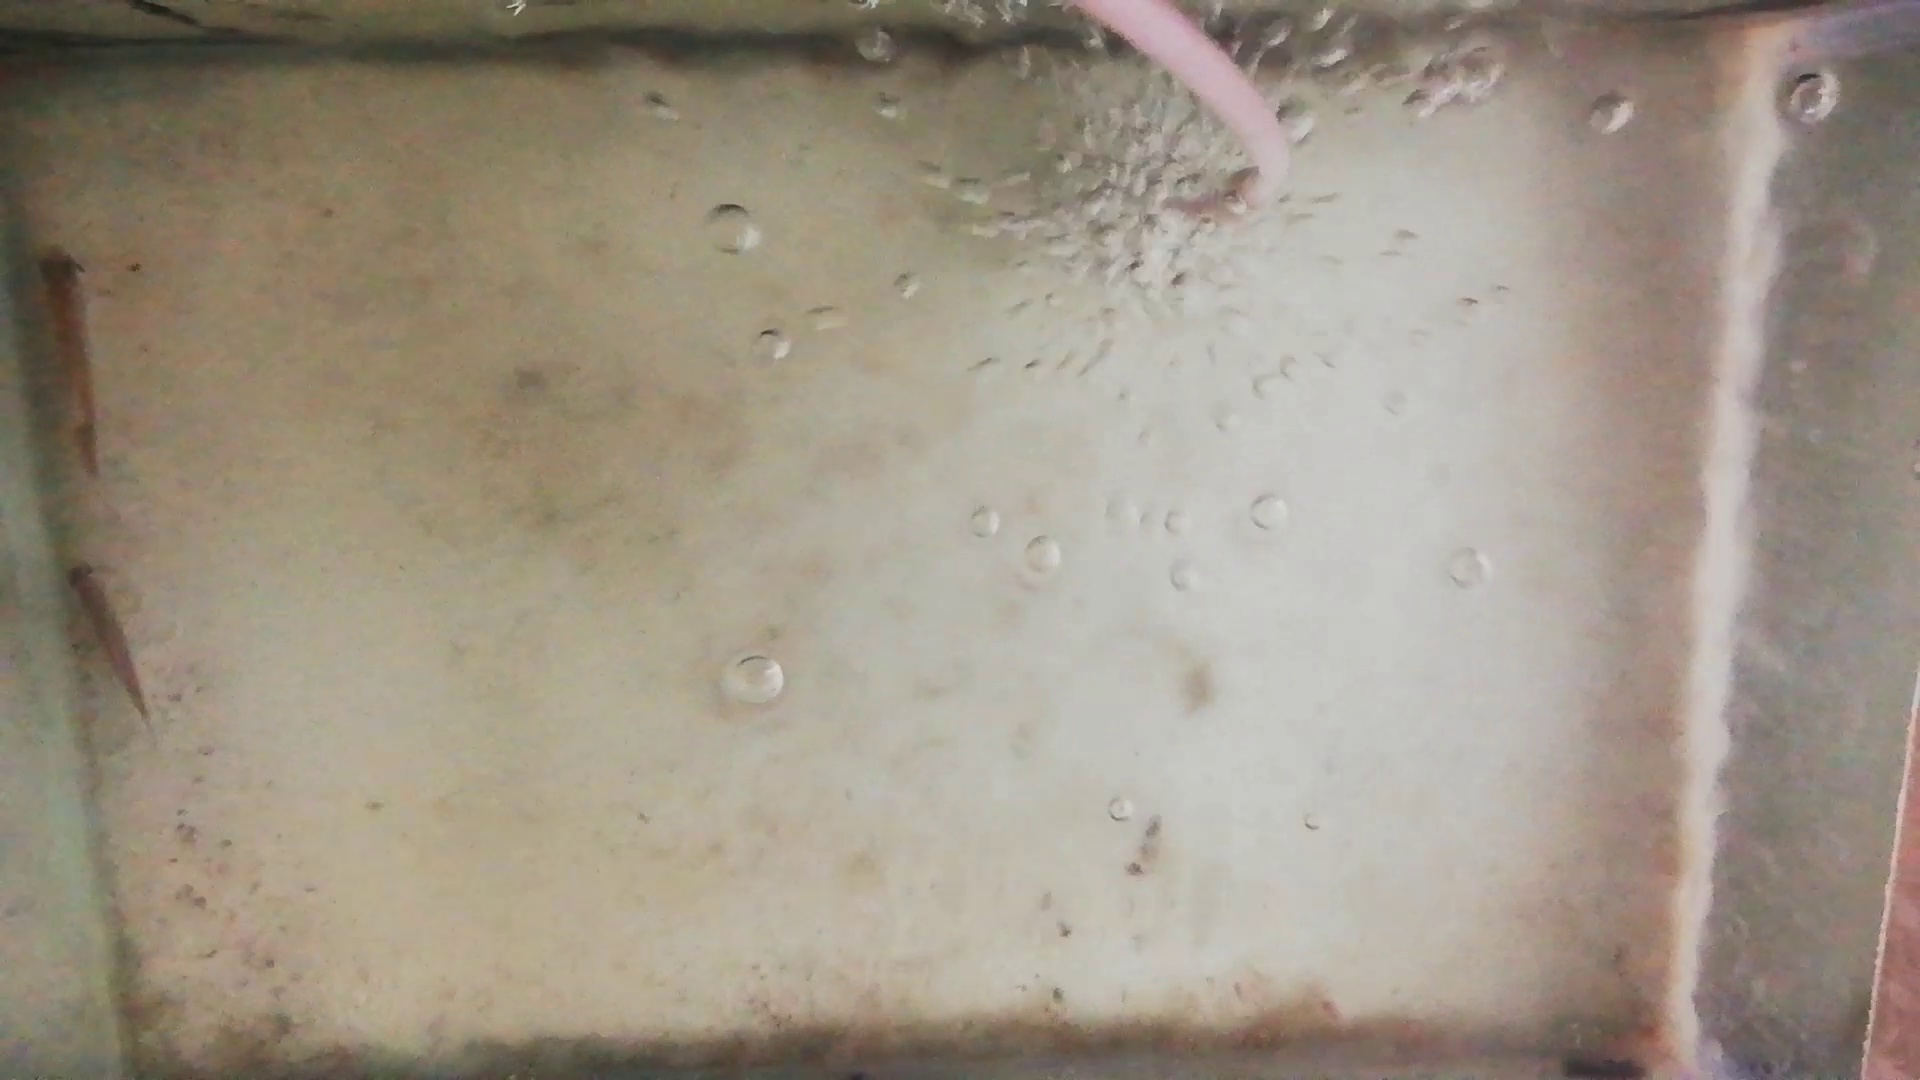fish: (37, 247, 103, 483), (63, 560, 148, 716)
